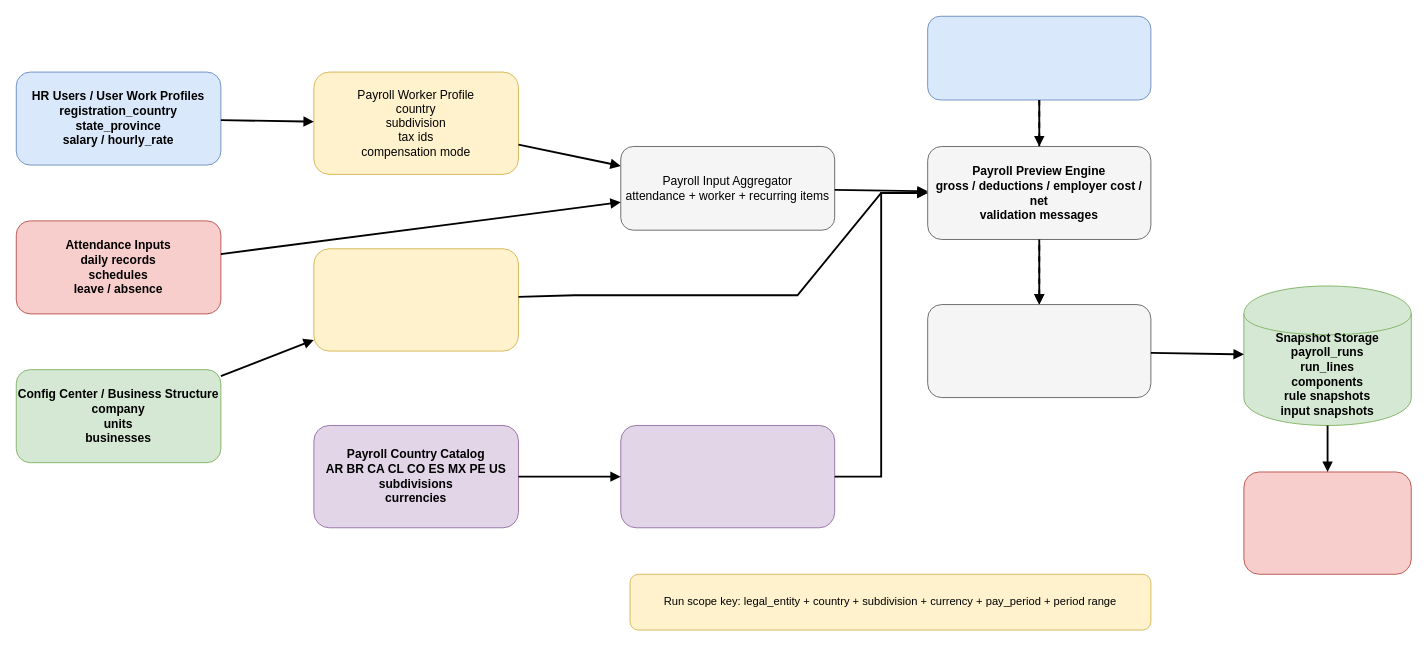
This 1428x646 diagram has some shape labels left out. Here are the shapes that lost their labels. From the top down, the box of each, then its label:
(927, 15, 1151, 100): React Payroll UI read-only breakdown rendering workflow only no statutory math
(313, 248, 518, 351): Payroll Legal Entity Profile tax registrations currency calendar reporting scope
(927, 304, 1151, 398): Payroll Run Orchestrator draft calculate approve mark paid
(620, 425, 835, 528): Rule Versions / Country Packs effective dated backend only statutory logic
(1243, 471, 1411, 574): Exports / Payslips / Audit CSV PDF journals event stream
